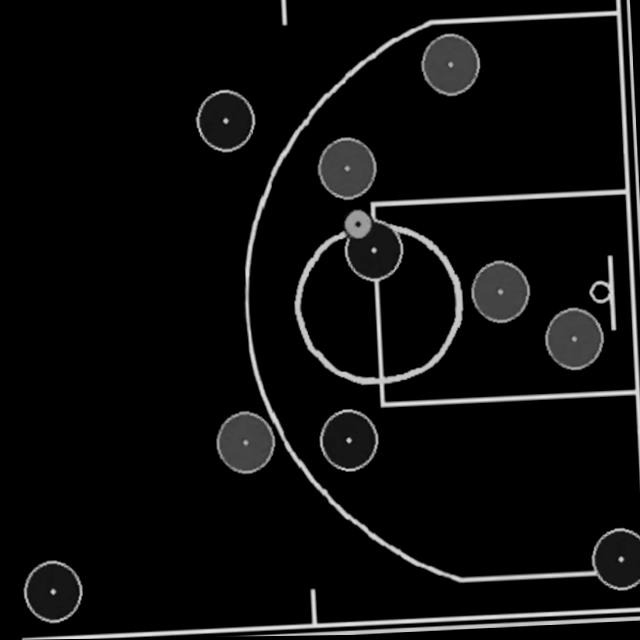Basketball: (338, 210, 370, 241)
Team_A: (19, 559, 81, 625), (315, 409, 378, 473), (192, 89, 253, 154), (342, 218, 402, 283), (587, 528, 640, 592)
Team_B: (417, 33, 480, 99), (212, 411, 275, 476), (466, 260, 528, 326), (314, 136, 376, 200), (542, 308, 602, 372)
